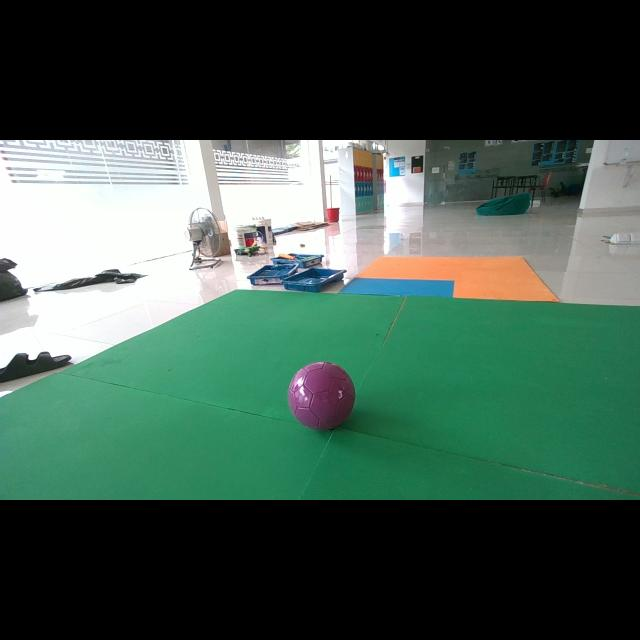P: (288, 361, 355, 429)
